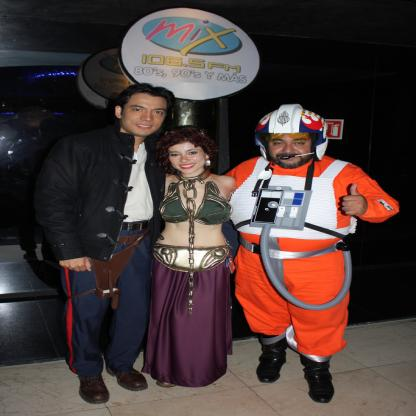Helmet: (253, 103, 330, 172)
